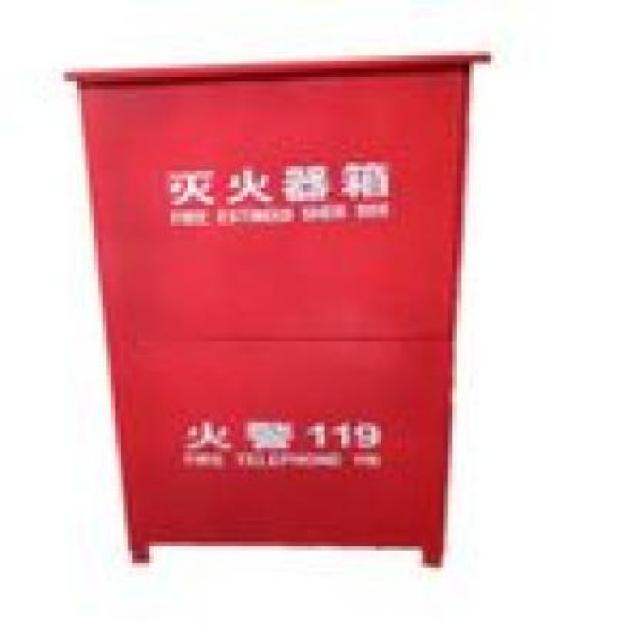firehydrant: (57, 43, 498, 579)
